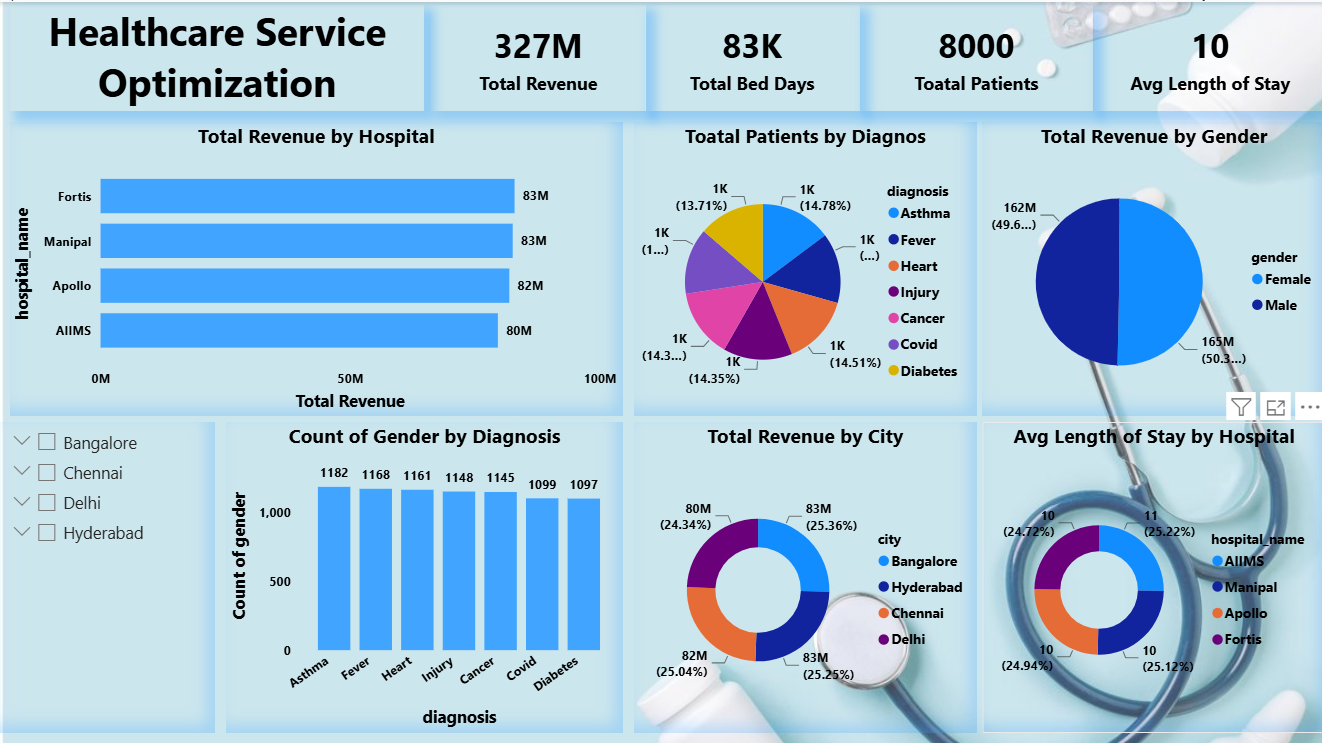

What the dashboard file says about the page in this screenshot:
{"tool":"powerbi","page":{"name":"Page 1","canvas":[1280,720],"ordinal":0},"visuals":[{"type":"card","fields":{"Values":["healthcare healthcare.Avg Length of Stay"]},"box":[1055.2,2.7,225,102.9],"z":0},{"type":"card","fields":{"Values":["healthcare healthcare.Toatal Patients"]},"box":[830.2,2.7,225,102.9],"z":1000},{"type":"card","fields":{"Values":["healthcare healthcare.Total Admissions"]},"box":[623,2.7,207.2,102.9],"z":2000},{"type":"card","fields":{"Values":["healthcare healthcare.Total Revenue"]},"box":[415.8,2.7,207.2,102.9],"z":3000},{"type":"barChart","title":"Total Revenue by Hospital","fields":{"Category":["healthcare healthcare.hospital_name"],"Y":["healthcare healthcare.Total Revenue"]},"box":[10,115.7,591.4,284.3],"z":4000},{"type":"pieChart","title":"Toatal Patients by Diagnos","fields":{"Category":["healthcare healthcare.diagnosis"],"Y":["healthcare healthcare.Toatal Patients"],"Series":["healthcare healthcare.diagnosis"]},"box":[611.4,115.7,331.4,284.3],"z":5000},{"type":"pieChart","title":"Total Revenue by Gender","fields":{"Category":["healthcare healthcare.gender"],"Y":["healthcare healthcare.Total Revenue"]},"box":[948.6,115.7,331.4,284.3],"z":6000},{"type":"donutChart","title":"Total Revenue by City","fields":{"Category":["healthcare healthcare.city"],"Y":["healthcare healthcare.Total Revenue"]},"box":[611.4,405.7,331.4,300],"z":7000},{"type":"donutChart","title":"Avg Length of Stay by Hospital","fields":{"Category":["healthcare healthcare.hospital_name"],"Y":["healthcare healthcare.Avg Length of Stay"]},"box":[948.6,405.7,331.4,300],"z":8000},{"type":"columnChart","title":"Count of Gender by Diagnosis","fields":{"Category":["healthcare healthcare.diagnosis"],"Y":["CountNonNull(healthcare healthcare.gender)"]},"box":[218.6,405.7,382.9,300],"z":9000},{"type":"slicer","fields":{"Values":["healthcare healthcare.city","healthcare healthcare.diagnosis","healthcare healthcare.gender"]},"box":[0,405.7,207.1,300],"z":10000},{"type":"textbox","title":" Healthcare Service Optimization","box":[10,2.9,400,102.9],"z":11000}]}

Visuals, with their boxes in screenshot pixels (x1, y1, x2, y2), scaled from the page's 1280x720 canvas onto the 1322x743 screenshot:
card - healthcare healthcare.Avg Length of Stay: 1090:3:1321:109
card - healthcare healthcare.Toatal Patients: 857:3:1090:109
card - healthcare healthcare.Total Admissions: 643:3:857:109
card - healthcare healthcare.Total Revenue: 429:3:643:109
"Total Revenue by Hospital" barChart: 10:119:621:413
"Toatal Patients by Diagnos" pieChart: 631:119:974:413
"Total Revenue by Gender" pieChart: 980:119:1321:413
"Total Revenue by City" donutChart: 631:419:974:728
"Avg Length of Stay by Hospital" donutChart: 980:419:1321:728
"Count of Gender by Diagnosis" columnChart: 226:419:621:728
slicer - healthcare healthcare.city x healthcare healthcare.diagnosis: 0:419:214:728
" Healthcare Service Optimization" textbox: 10:3:423:109
